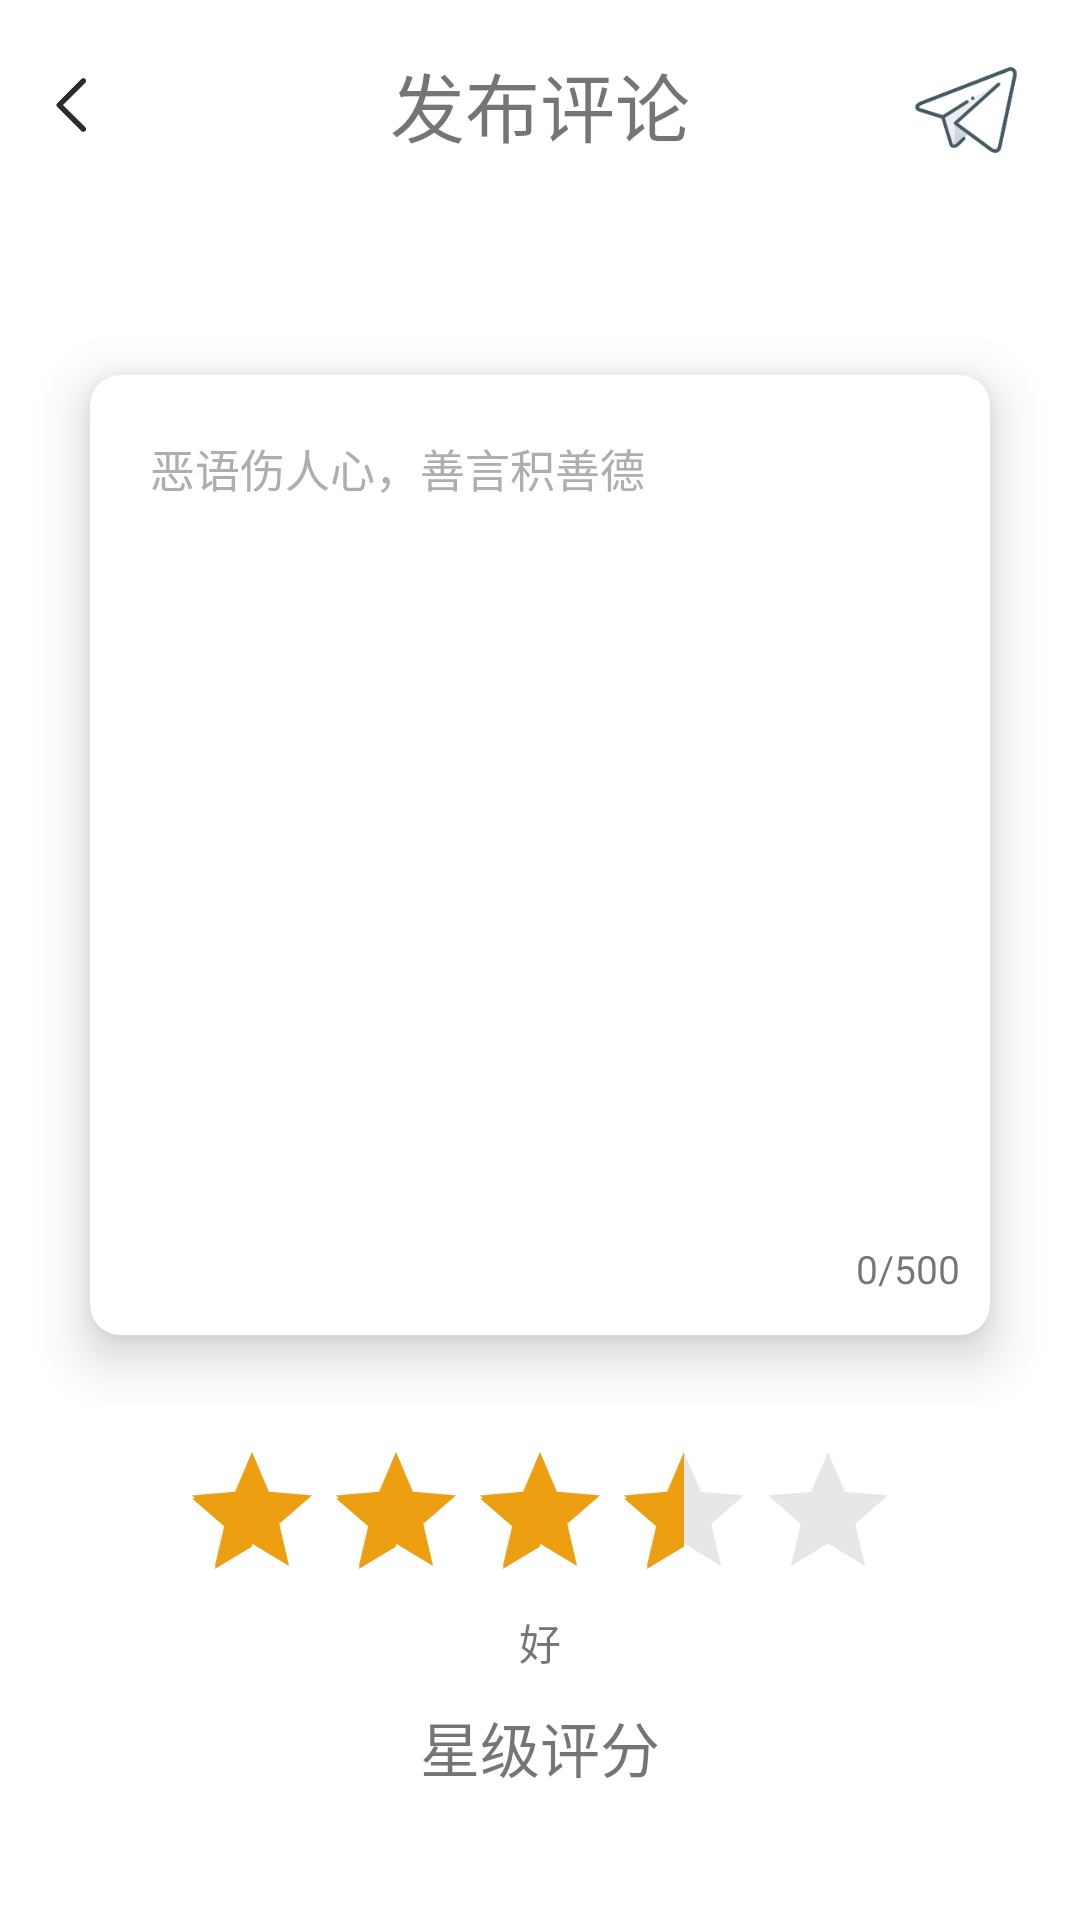

Locate icon controls on the screen. Image size 1080px×1920px, boxes as (x1, y1, x2, y2).
Return: (56, 78, 86, 132)
send: (915, 67, 1017, 153)
